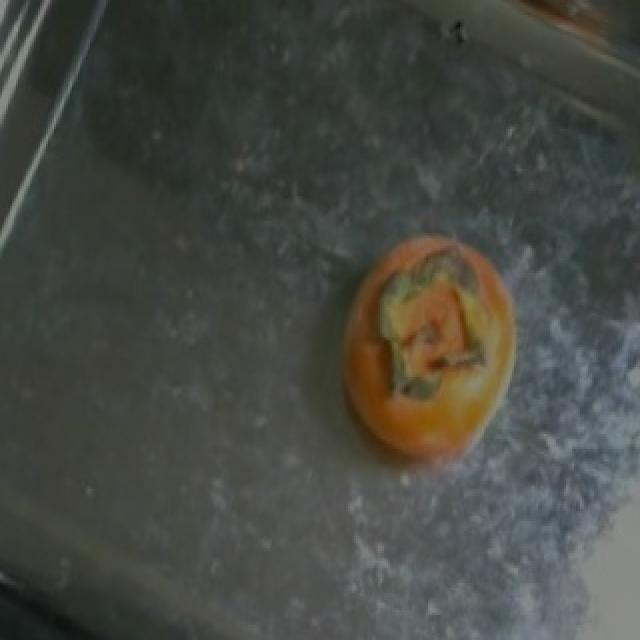Fruit: (316, 213, 536, 494)
